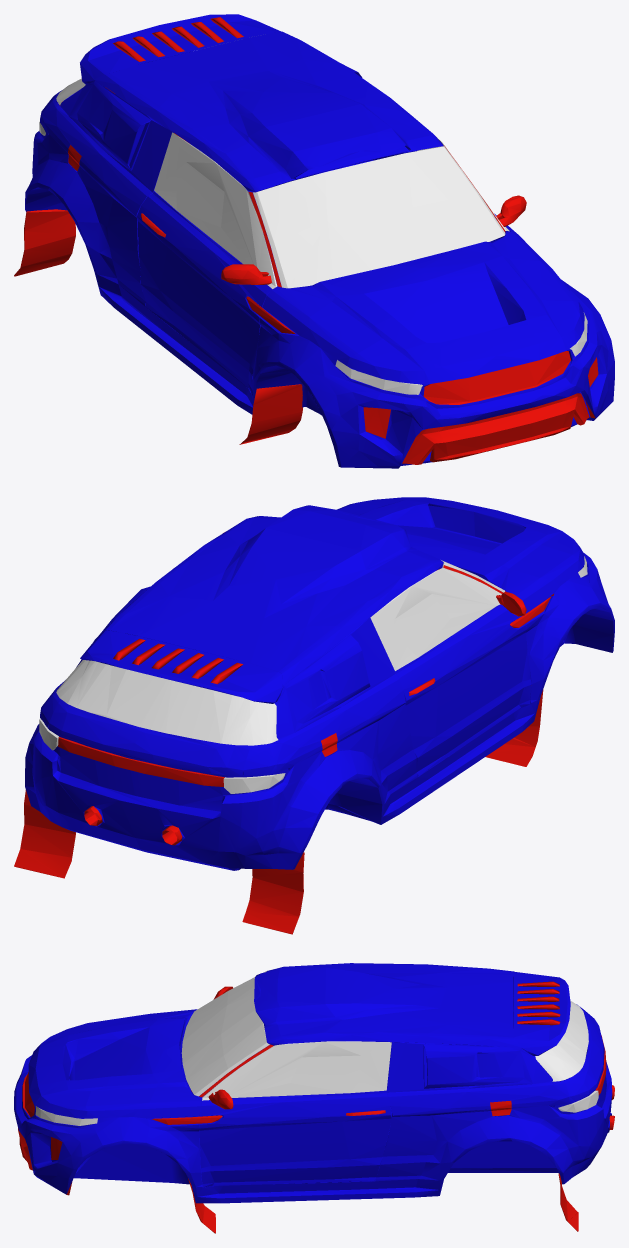
The model's file is SportCar_3_LowPoly.fbx.
The picture shows the model from 3 angles, top to bottom: view 1: azimuth 30°, elevation 25°; view 2: azimuth 150°, elevation 25°; view 3: azimuth 270°, elevation 25°; orthographic projection. The views are drawn at different scales.
Visible parts, largest first — view 1: Sport_Car_3; view 2: Sport_Car_3; view 3: Sport_Car_3.
Part boxes in pixels (bbox=[...]): Sport_Car_3: bbox=[14, 14, 614, 468]; Sport_Car_3: bbox=[14, 497, 614, 934]; Sport_Car_3: bbox=[14, 963, 614, 1233].
Bounding box in the file's own units: 402 × 309 × 873.
